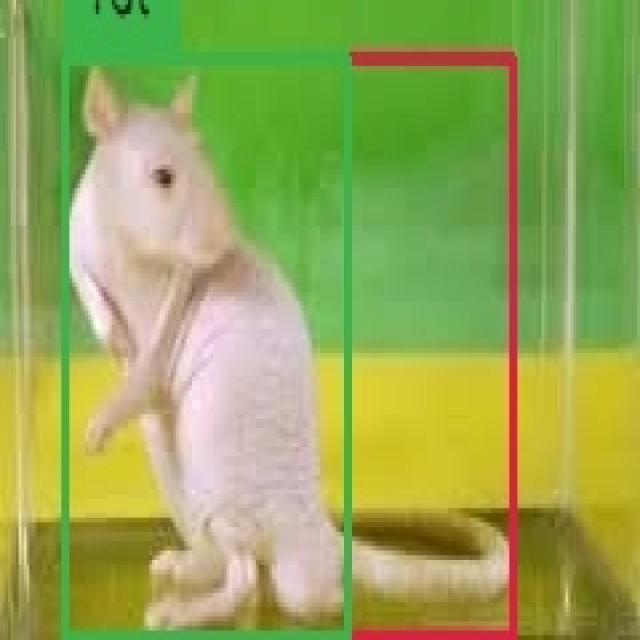rat: (66, 58, 514, 638), (64, 58, 349, 638)
